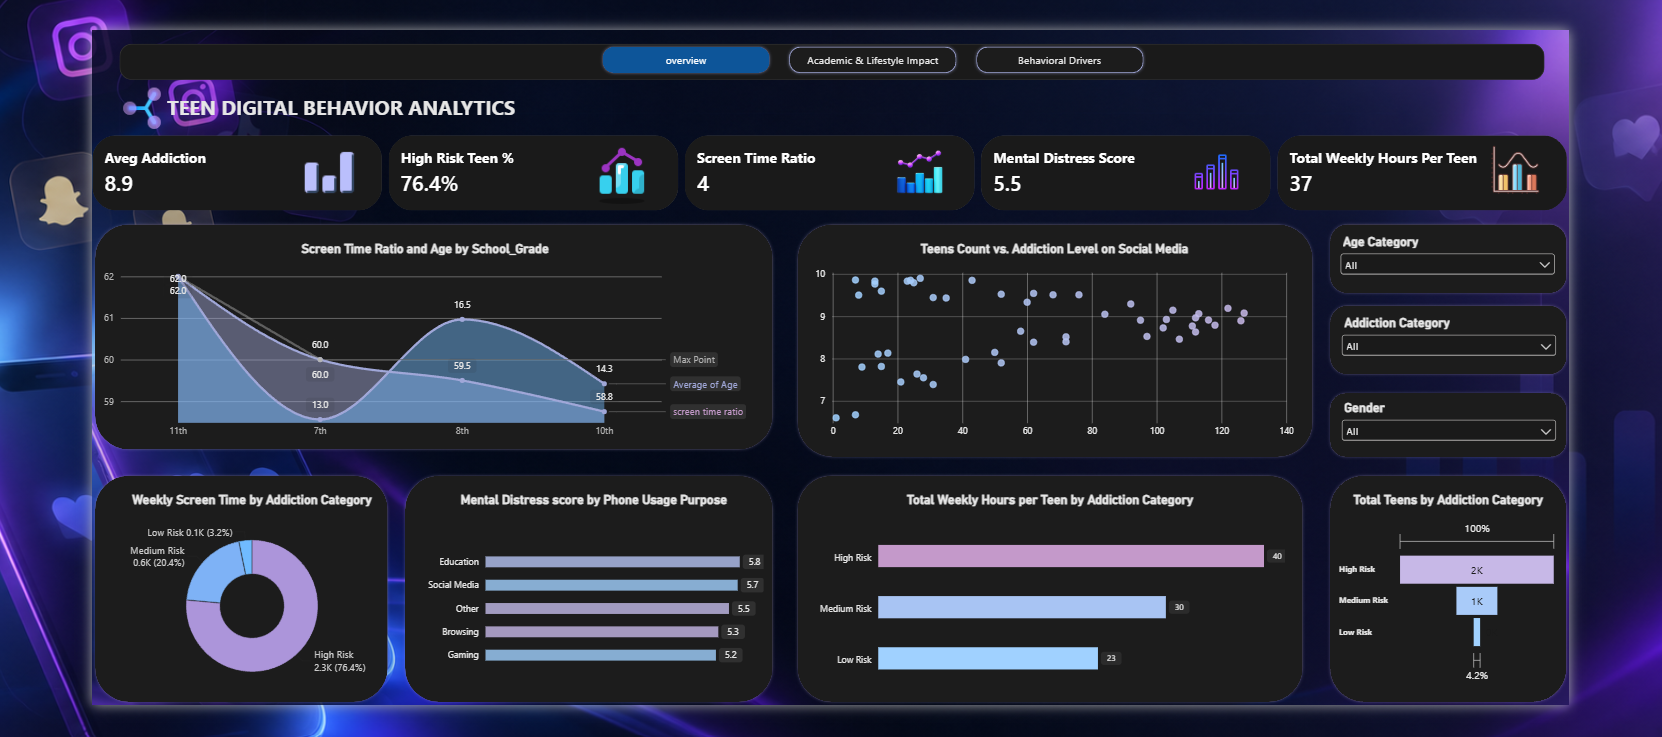

This screenshot's page, from the dashboard's own definition file:
{"tool":"powerbi","page":{"name":"overview","canvas":[1970,900],"ordinal":0},"visuals":[{"type":"cardVisual","fields":{"Data":["teen_phone_addiction_dataset.aveg addiction","teen_phone_addiction_dataset.High Risk Teen %","teen_phone_addiction_dataset.screen time ratio","teen_phone_addiction_dataset.Mental Distress Score","teen_phone_addiction_dataset.total weekly hours"]},"box":[0,140,1970,101.7],"z":0},{"type":"shape","box":[36.7,18.3,1900,48.3],"z":1000},{"type":"image","box":[275,151.7,83.3,75],"z":2000},{"type":"image","box":[1463.3,141.7,71.7,95],"z":3000},{"type":"image","box":[1066.7,143.3,73.3,95],"z":4000},{"type":"image","box":[663.3,140,86.7,96.7],"z":5000},{"type":"image","box":[1858.3,151.7,78.3,70],"z":6000},{"type":"shape","box":[0,255,911.7,308.3],"z":7000},{"type":"lineChart","title":"Screen Time Ratio and Age by School_Grade","fields":{"Category":["teen_phone_addiction_dataset.School_Grade"],"Y":["teen_phone_addiction_dataset.screen time ratio","Table.Max Point"],"Y2":["Avg(teen_phone_addiction_dataset.Age)"]},"box":[0,266.7,888.3,296.7],"z":8000},{"type":"shape","box":[413.3,590,498.3,310],"z":9000},{"type":"shape","box":[0,590,398.3,310],"z":10000},{"type":"donutChart","title":"Weekly Screen Time  by Addiction Category","fields":{"Category":["teen_phone_addiction_dataset.Addiction Category"],"Y":["Table.total teens"]},"box":[0,601.7,426.7,298.3],"z":11000},{"type":"barChart","title":"Mental Distress score by Phone Usage Purpose ","fields":{"Category":["teen_phone_addiction_dataset.Phone_Usage_Purpose"],"Y":["teen_phone_addiction_dataset.Mental Distress Score"]},"box":[426.7,601.7,485,298.3],"z":12000},{"type":"shape","box":[936.7,590,681.7,310],"z":13000},{"type":"clusteredBarChart","title":"Total Weekly Hours per Teen by Addiction Category","fields":{"Category":["teen_phone_addiction_dataset.Addiction Category"],"Y":["teen_phone_addiction_dataset.total weekly hours per teen"]},"box":[948.3,601.7,658.3,298.3],"z":14000},{"type":"shape","box":[1646.7,590,323.3,310],"z":15000},{"type":"funnel","title":"Total Teens by Addiction Category","fields":{"Category":["teen_phone_addiction_dataset.Addiction Category"],"Y":["Table.total teens"]},"box":[1646.7,601.7,323.3,285],"z":16000},{"type":"shape","box":[936.7,255,695,318.3],"z":17000},{"type":"scatterChart","title":"Teens Count vs. Addiction Level on Social Media","fields":{"X":["Table.total teens"],"Y":["teen_phone_addiction_dataset.aveg addiction"],"Category":["teen_phone_addiction_dataset.Time_on_Social_Media"]},"box":[948.3,266.7,670,296.7],"z":18000},{"type":"shape","box":[1646.7,255,323.3,100],"z":19000},{"type":"shape","box":[1646.7,363.3,323.3,100],"z":20000},{"type":"shape","box":[1646.7,463.3,323.3,100],"z":21000},{"type":"slicer","fields":{"Values":["teen_phone_addiction_dataset.Gender"]},"box":[1660,480,295,65],"z":22000},{"type":"slicer","fields":{"Values":["teen_phone_addiction_dataset.Age Category"]},"box":[1660,271.7,295,66.7],"z":23000},{"type":"slicer","fields":{"Values":["teen_phone_addiction_dataset.Addiction Category"]},"box":[1661.7,380,295,65],"z":24000},{"type":"pageNavigator","box":[676.7,18.3,730,43.3],"z":25000},{"type":"textbox","box":[100,85,490,43.3],"z":26000},{"type":"image","box":[36.7,56.7,60,95],"z":27000}]}

Visuals, with their boxes on the page's 1970x900 design canvas (x1, y1, x2, y2). These are canvas units, not pixel positions in the 1662x737 screenshot, which may show the page scaled, cropped or inside an application window:
cardVisual - teen_phone_addiction_dataset.aveg addiction x teen_phone_addiction_dataset.High Risk Teen %: <box>0,140,1970,242</box>
shape: <box>37,18,1937,67</box>
image: <box>275,152,358,227</box>
image: <box>1463,142,1535,237</box>
image: <box>1067,143,1140,238</box>
image: <box>663,140,750,237</box>
image: <box>1858,152,1937,222</box>
shape: <box>0,255,912,563</box>
"Screen Time Ratio and Age by School_Grade" lineChart: <box>0,267,888,563</box>
shape: <box>413,590,912,900</box>
shape: <box>0,590,398,900</box>
"Weekly Screen Time  by Addiction Category" donutChart: <box>0,602,427,900</box>
"Mental Distress score by Phone Usage Purpose " barChart: <box>427,602,912,900</box>
shape: <box>937,590,1618,900</box>
"Total Weekly Hours per Teen by Addiction Category" clusteredBarChart: <box>948,602,1607,900</box>
shape: <box>1647,590,1970,900</box>
"Total Teens by Addiction Category" funnel: <box>1647,602,1970,887</box>
shape: <box>937,255,1632,573</box>
"Teens Count vs. Addiction Level on Social Media" scatterChart: <box>948,267,1618,563</box>
shape: <box>1647,255,1970,355</box>
shape: <box>1647,363,1970,463</box>
shape: <box>1647,463,1970,563</box>
slicer - teen_phone_addiction_dataset.Gender: <box>1660,480,1955,545</box>
slicer - teen_phone_addiction_dataset.Age Category: <box>1660,272,1955,338</box>
slicer - teen_phone_addiction_dataset.Addiction Category: <box>1662,380,1957,445</box>
pageNavigator: <box>677,18,1407,62</box>
textbox: <box>100,85,590,128</box>
image: <box>37,57,97,152</box>
